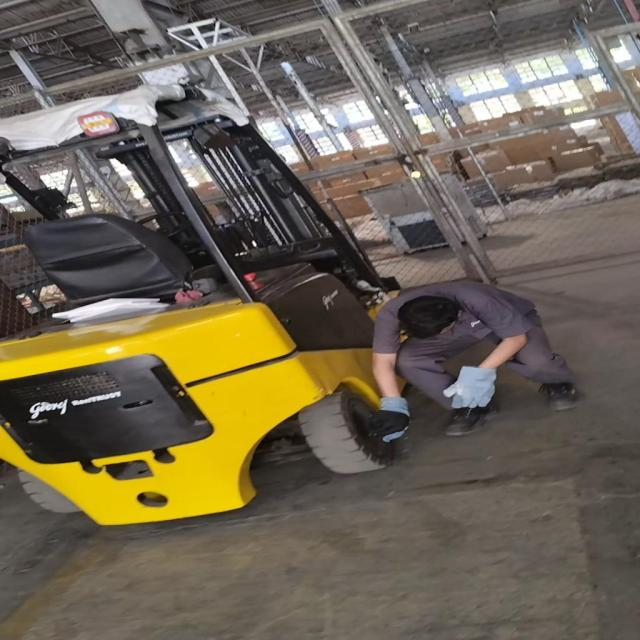Gloves-Detection: (438, 361, 496, 420), (361, 394, 417, 444)
